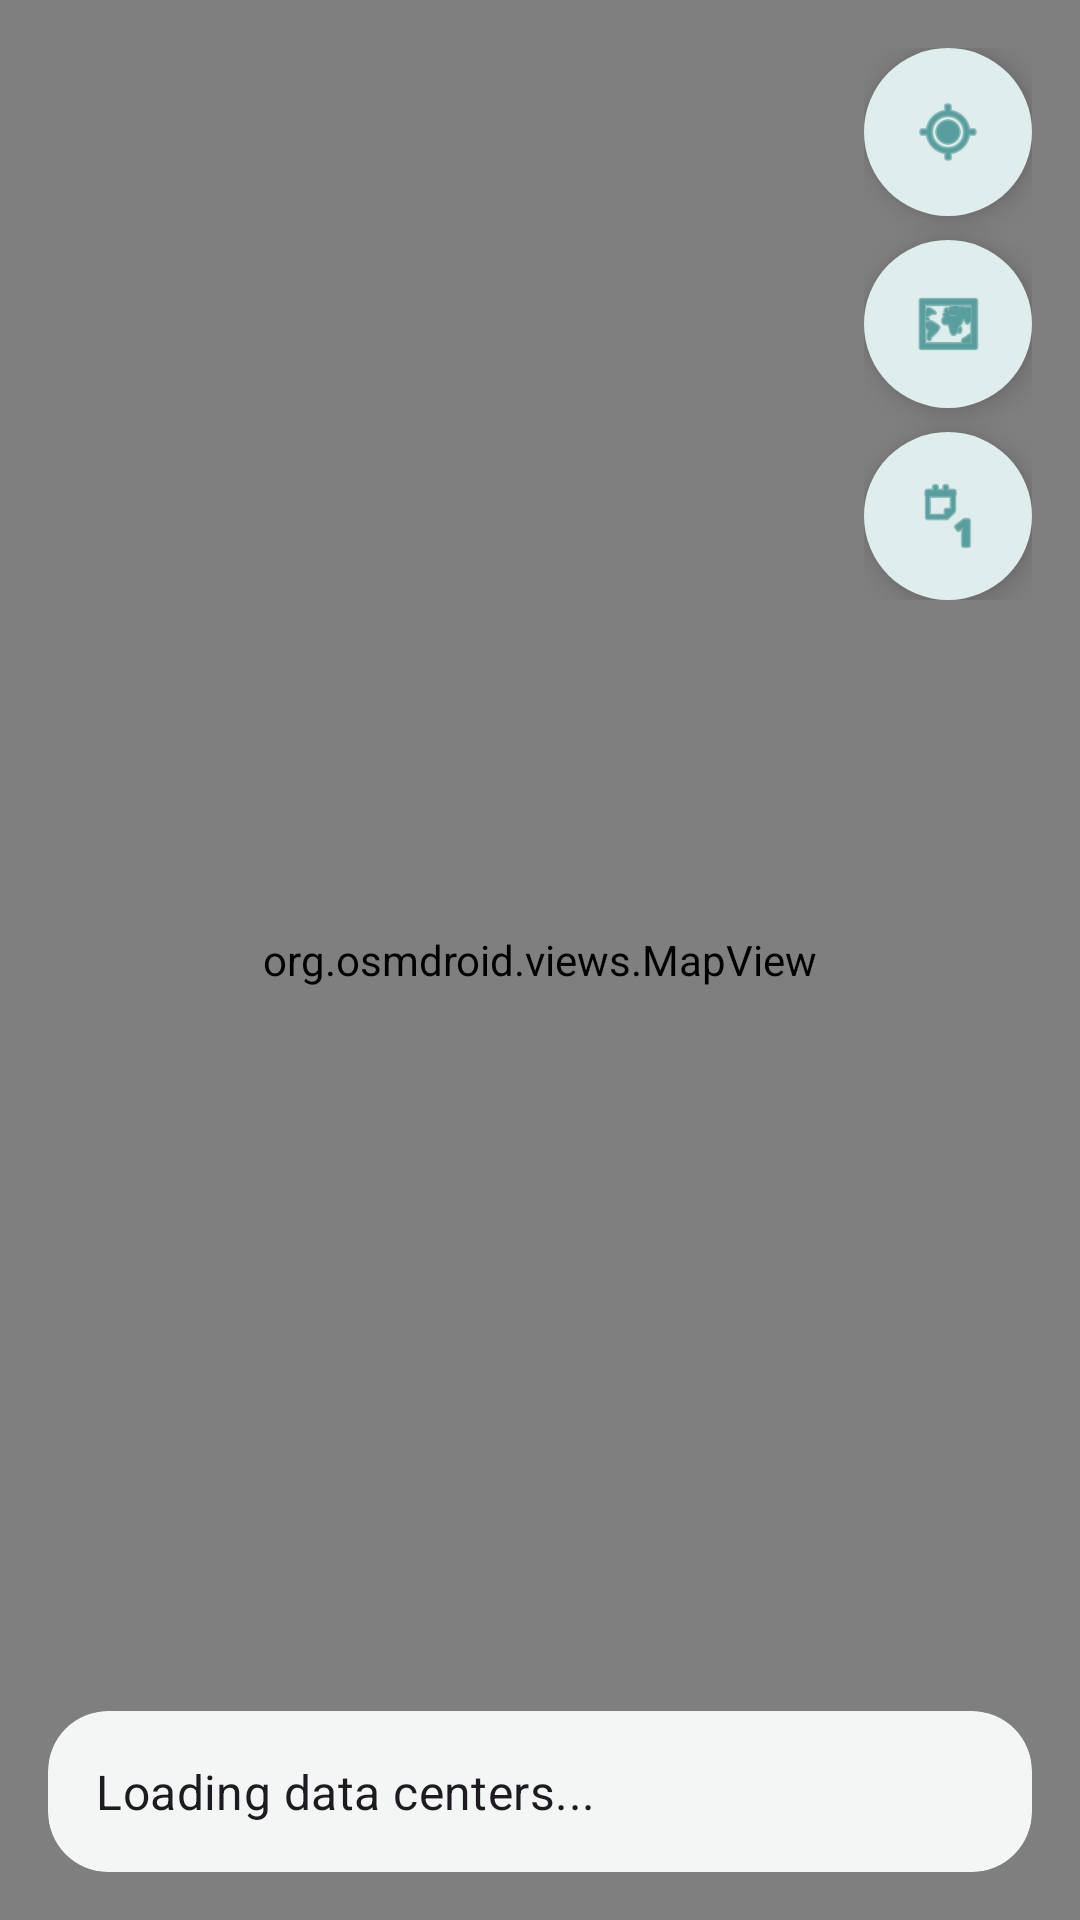

Named icons in this screenshot (1080*1920) and their bounding boxes, (x1, y1, x2, y2):
Toggle Satellite: (864, 240, 1032, 408)
